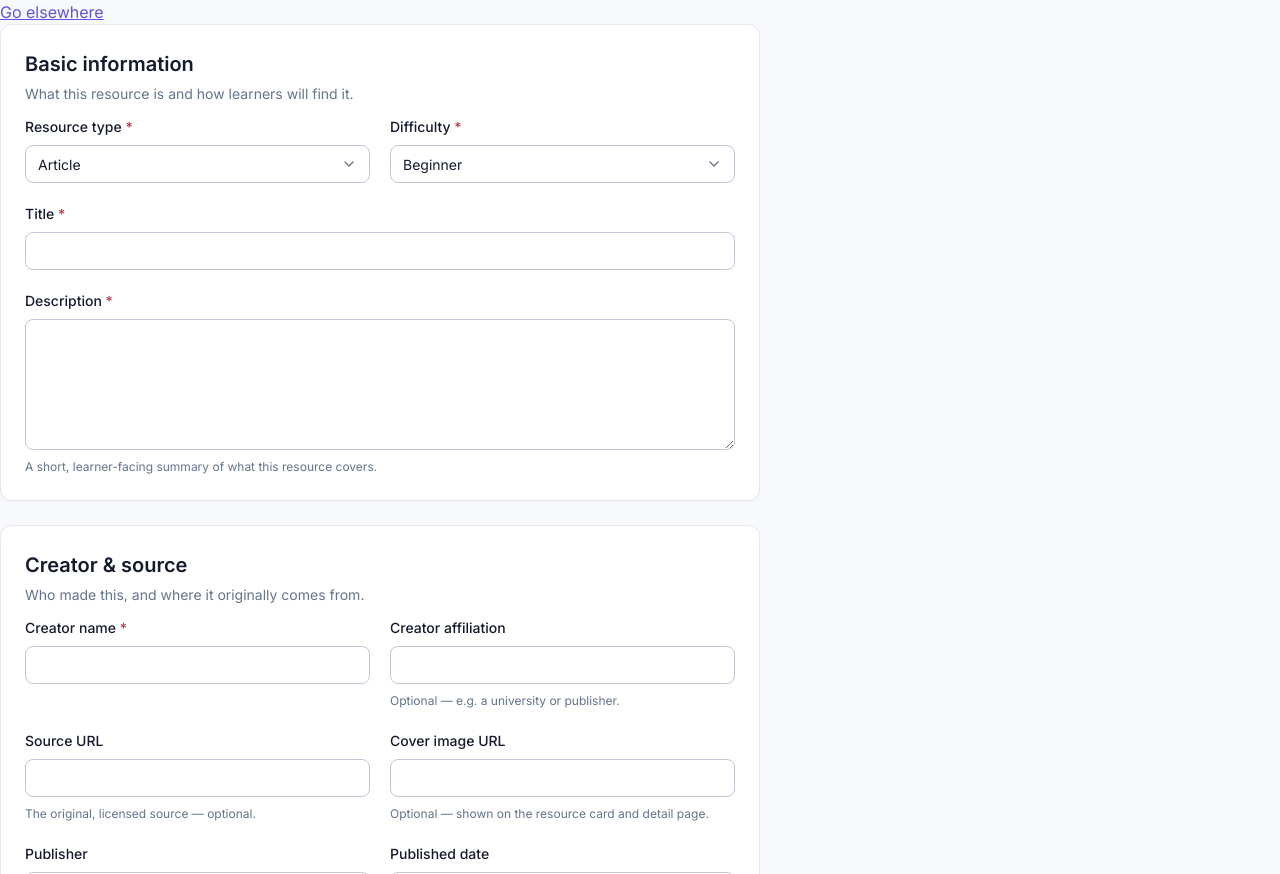
Test: ResourceForm › unsaved-changes navigation guard (Task 05D) › blocks in-app navigation away from a dirty form, and "Keep editing" stays on the form
In the field labelled "Title *": point(380, 251) [38,233,722,269], type "Unsaved title"
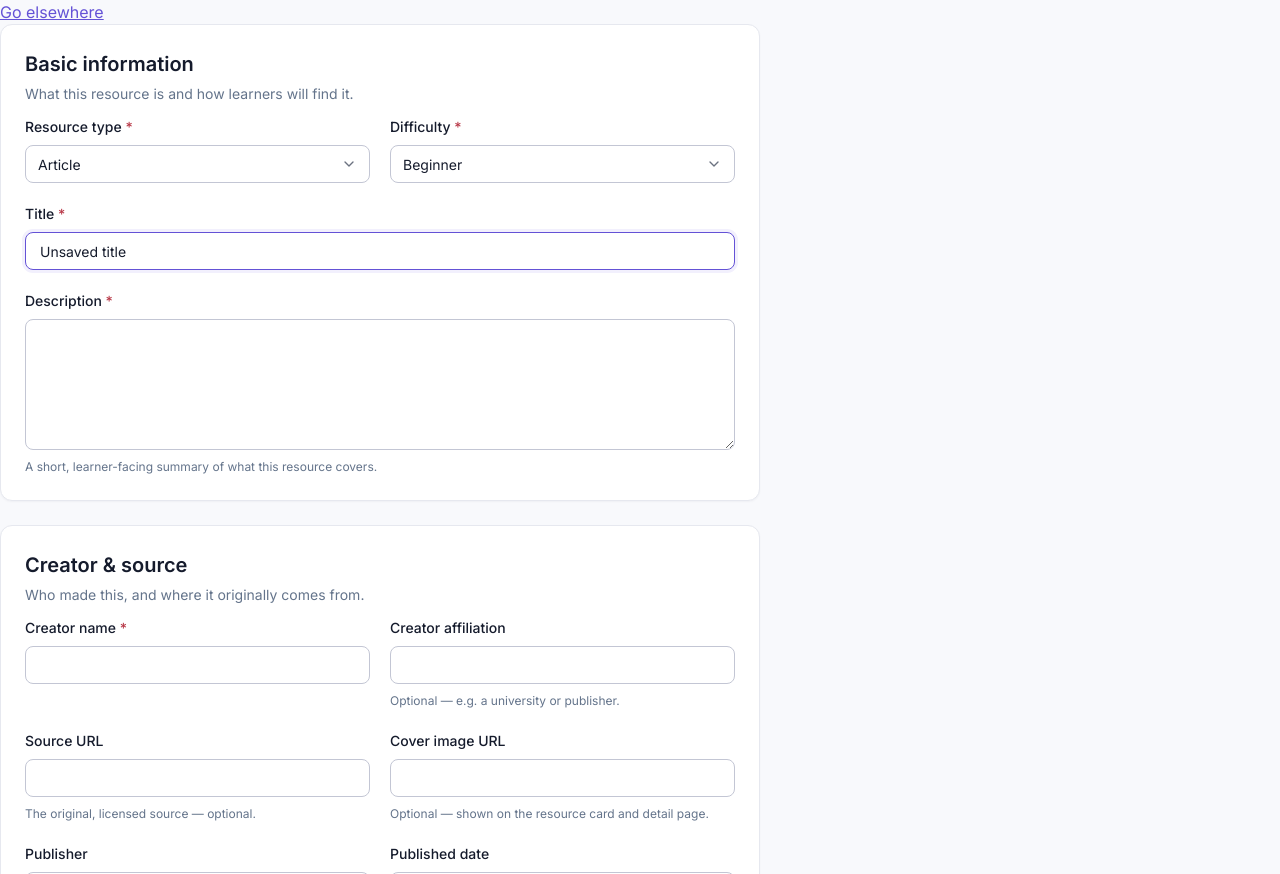
Click the link "Go elsewhere": point(52, 12) [0,2,104,22]
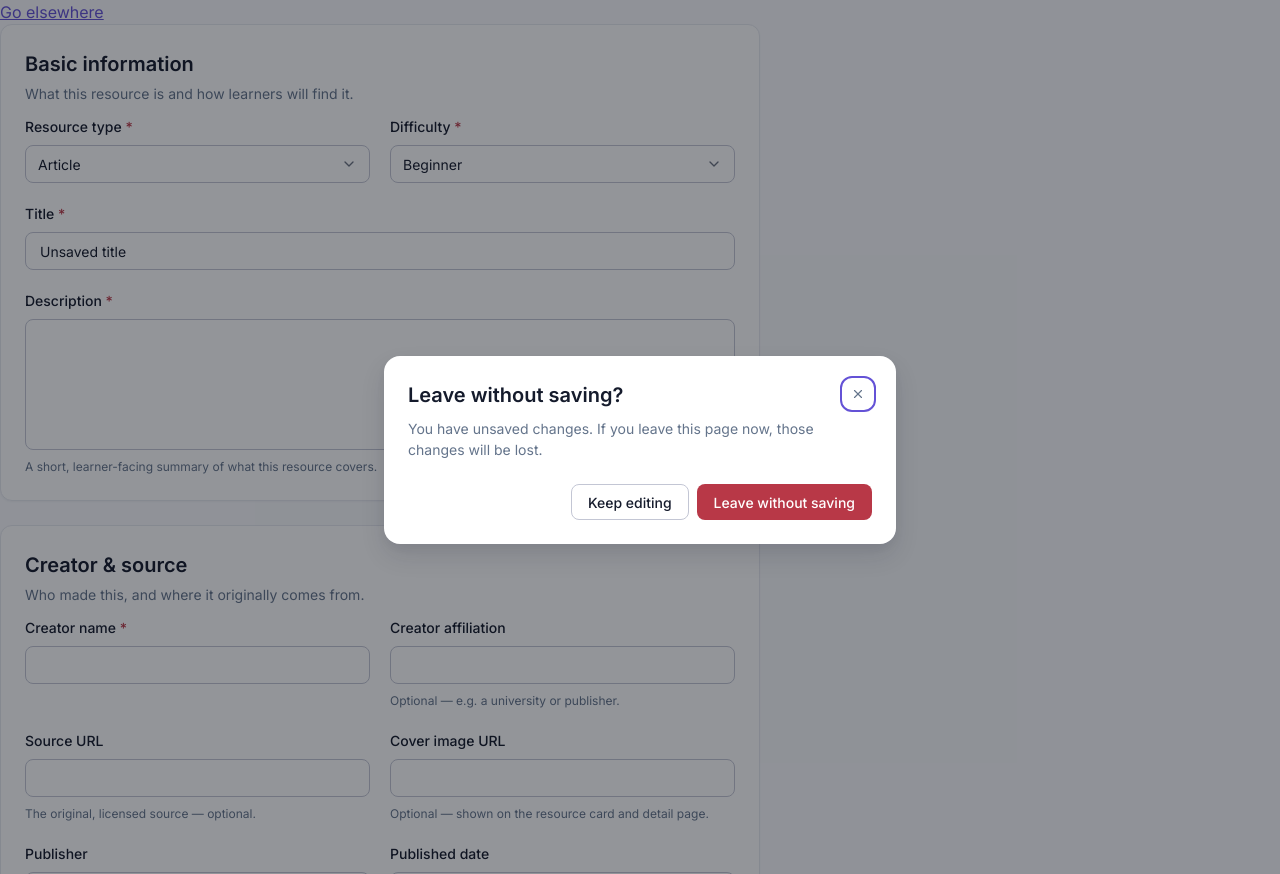
Result: the heading "Leave without saving?" is shown at [408,380,623,410]
Click the button "Keep editing": point(630, 502) [571,484,689,520]
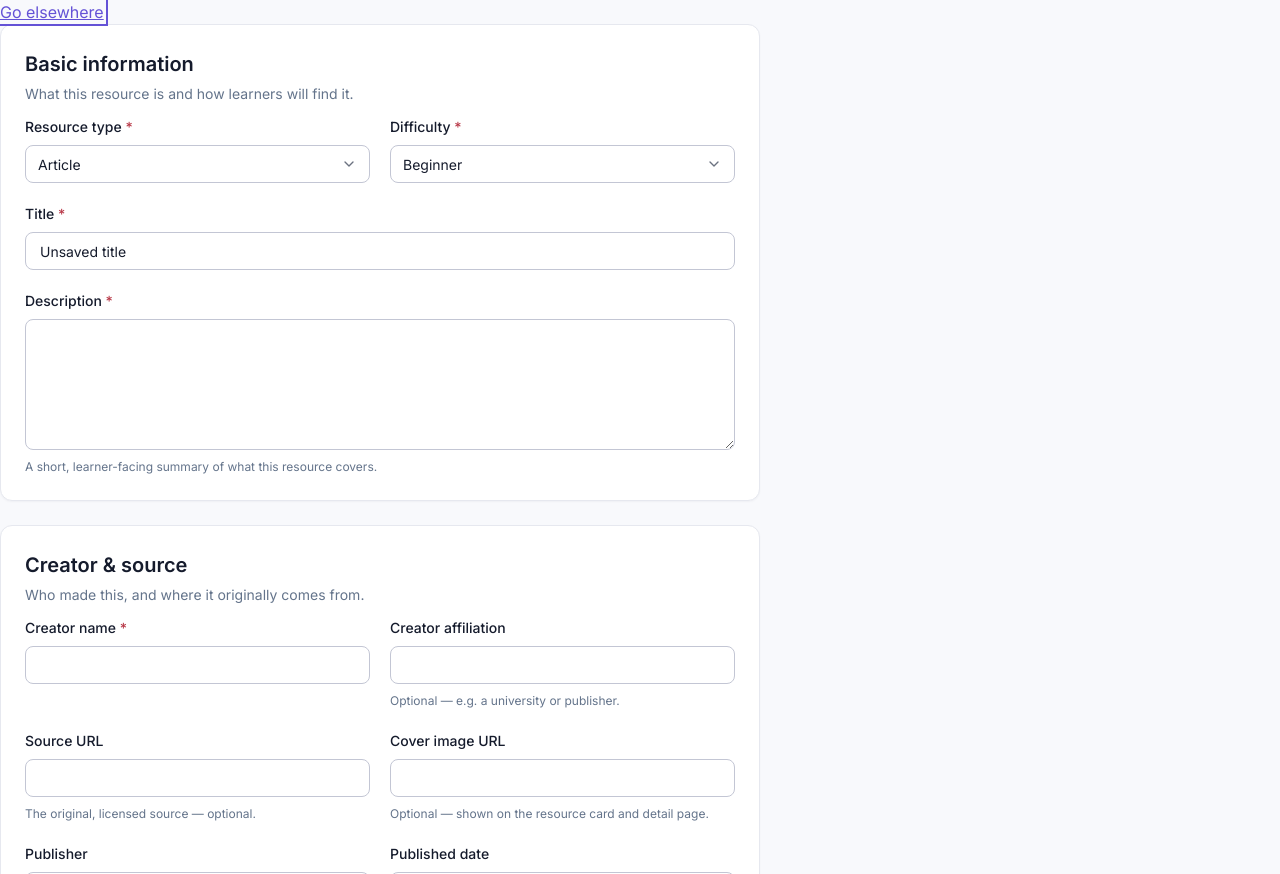
Result: the heading "Leave without saving?" is gone
